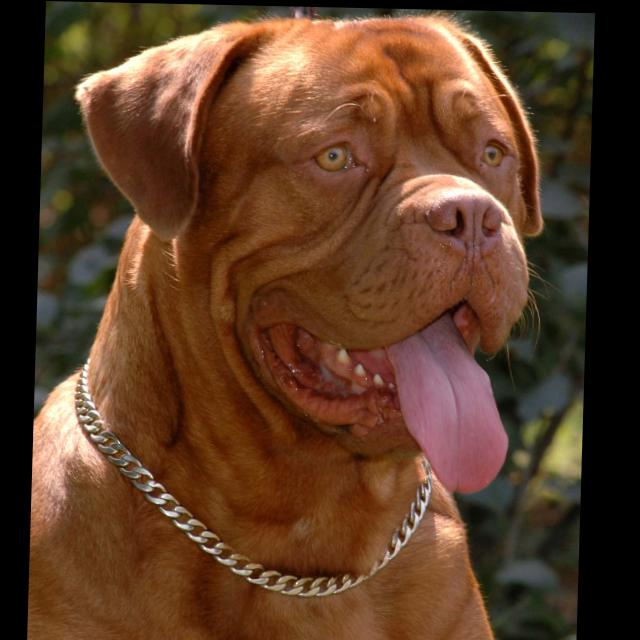dogue_de_bordeaux: (31, 8, 548, 640)
